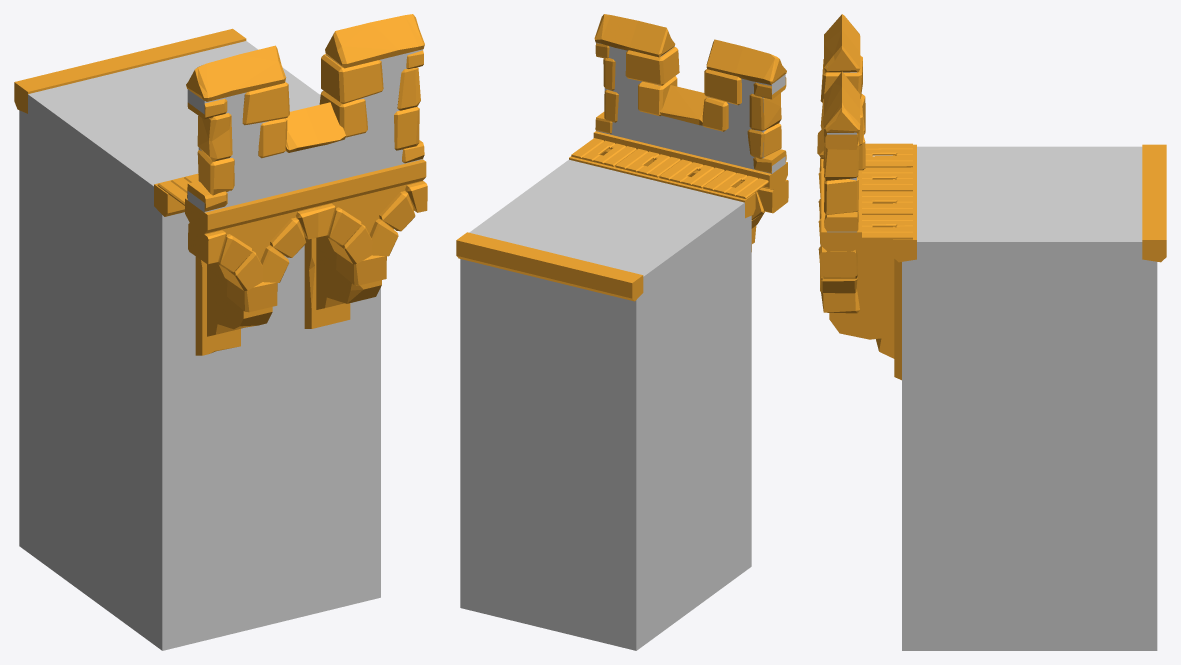
The model's file is SM_Rampart_3x6m_Mach_A_Fantasy_Base.fbx.
3 renders of one model, left to right at view 1: azimuth 30°, elevation 25°; view 2: azimuth 150°, elevation 25°; view 3: azimuth 270°, elevation 25°, orthographic. The views are drawn at different scales.
Parts seen in each view (by area): view 1: SM_Rampart_3x6m_Mach_A_Fantasy_Base; view 2: SM_Rampart_3x6m_Mach_A_Fantasy_Base; view 3: SM_Rampart_3x6m_Mach_A_Fantasy_Base.
Part boxes in pixels (left/top/right/bottom): SM_Rampart_3x6m_Mach_A_Fantasy_Base: left=14, top=14, right=427, bottom=650; SM_Rampart_3x6m_Mach_A_Fantasy_Base: left=456, top=14, right=788, bottom=650; SM_Rampart_3x6m_Mach_A_Fantasy_Base: left=817, top=14, right=1166, bottom=650.
Size of the model in its own units: 3.03 by 8.01 by 4.65.
